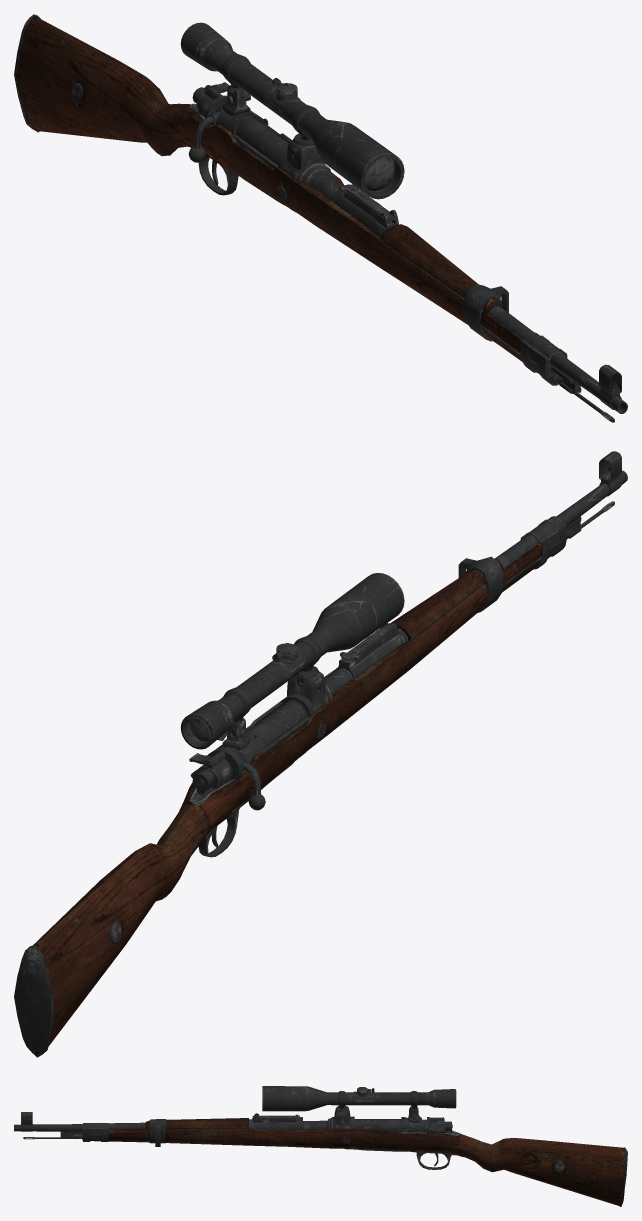
The model's file is Mauser_98K.gltf.
The picture shows the model from 3 angles, top to bottom: view 1: azimuth 30°, elevation 25°; view 2: azimuth 150°, elevation 25°; view 3: azimuth 270°, elevation 25°; orthographic projection. The views are drawn at different scales.
Parts seen in each view (by area): view 1: Mauser_98K; view 2: Mauser_98K; view 3: Mauser_98K.
Part boxes in pixels (x1,y1,x2,y2): Mauser_98K: (14, 14, 627, 422); Mauser_98K: (14, 451, 627, 1057); Mauser_98K: (14, 1086, 627, 1206).
Size of the model in its own units: 6.53 by 23.95 by 111.
1 material, 1 textured.
